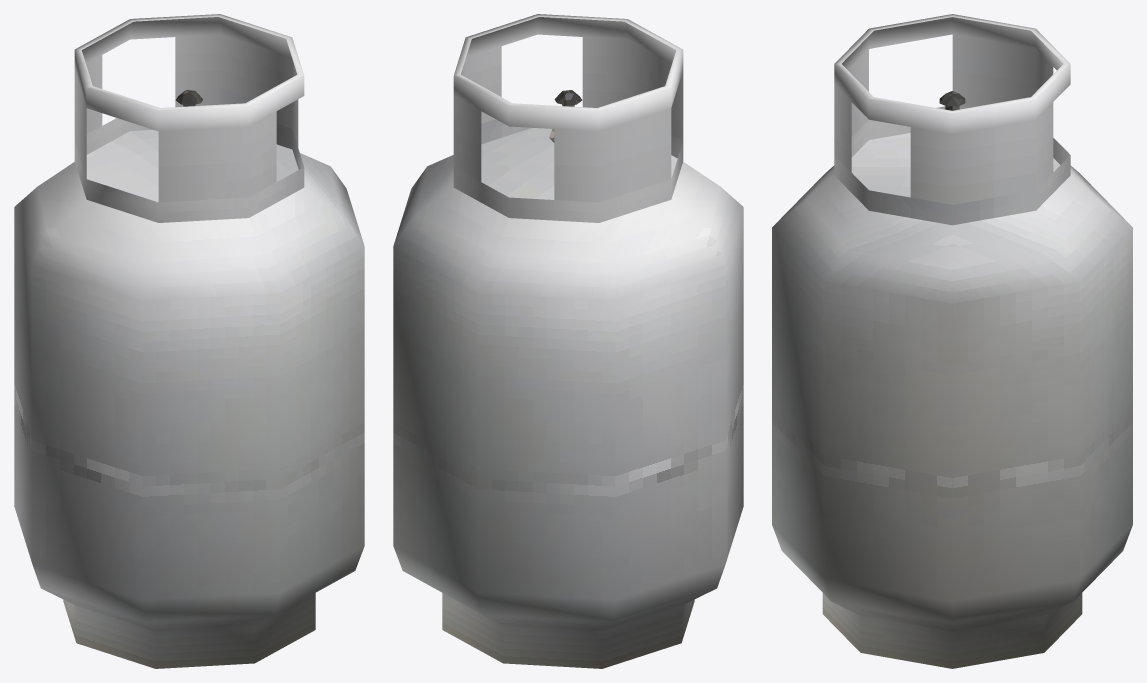
Rendered from bochka.glb.
3 renders of one model, left to right at view 1: azimuth 30°, elevation 25°; view 2: azimuth 150°, elevation 25°; view 3: azimuth 270°, elevation 25°, orthographic.
Parts seen in each view (by area): view 1: PropaneTankSmall_M_Industrial_0; view 2: PropaneTankSmall_M_Industrial_0; view 3: PropaneTankSmall_M_Industrial_0.
Part boxes in pixels (x1,y1,x2,y2): PropaneTankSmall_M_Industrial_0: (14, 14, 364, 668); PropaneTankSmall_M_Industrial_0: (393, 14, 743, 668); PropaneTankSmall_M_Industrial_0: (772, 14, 1132, 668).
Bounding box in the file's own units: 0.44 × 0.74 × 0.44.
Materials: 1 (1 with a texture image).
